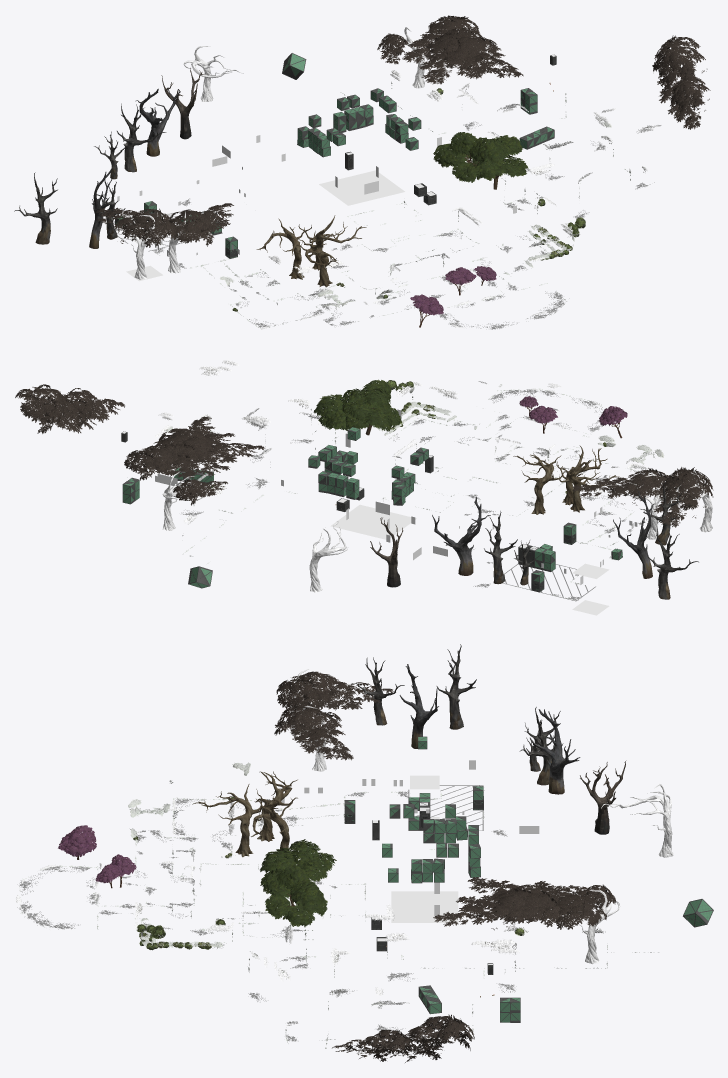
Rendered from Haven_Foliage.desktop.glb.
The picture shows the model from 3 angles, top to bottom: view 1: azimuth 30°, elevation 25°; view 2: azimuth 150°, elevation 25°; view 3: azimuth 270°, elevation 25°; orthographic projection. The views are drawn at different scales.
Visible parts, largest first — view 1: Shard_0_Box.016, Tree_1_ConiferC, Tree_0_BeechCanopyFoliage, Tree_0_BeechCanopyFoliage.016, FTBox_0_C.002, Tree_0_BeechCanopyFoliage.015, Tree_0_BeechCanopyFoliage.006, Tree_2_Trunk, Tree_0_BeechCanopyFoliage.014, Tree_0_AshenA.002, Tree_0_AshenA, Shard_0_Box (+11 smaller); view 2: Tree_0_BeechCanopyFoliage.016, Tree_1_ConiferC, Shard_0_Box.016, Tree_0_BeechCanopyFoliage, Tree_0_BeechCanopyFoliage.006, FTBox_0_C.002, Tree_0_BeechCanopyFoliage.015, Tree_2_Trunk, Tree_0_BeechCanopyFoliage.014, Tree_0_AshenA.002, Tree_0_AshenC, Tree_0_AshenA (+16 smaller); view 3: Tree_1_ConiferC, Tree_0_BeechCanopyFoliage, Shard_0_Box.016, Tree_0_BeechCanopyFoliage.016, Tree_0_BeechCanopyFoliage.015, Tree_0_BeechCanopyFoliage.014, Tree_2_Trunk, FTBox_0_C.002, Tree_0_BeechCanopyFoliage.006, Tree_0_AshenA.002, Tree_0_AshenC, Shard_0_Box (+13 smaller).
Boxes of the visible parts, x1,y1,x2,y2 form: Shard_0_Box.016: [297, 88, 421, 157]; Tree_1_ConiferC: [433, 132, 528, 189]; Tree_0_BeechCanopyFoliage: [419, 28, 523, 84]; Tree_0_BeechCanopyFoliage.016: [652, 35, 710, 129]; FTBox_0_C.002: [319, 137, 441, 205]; Tree_0_BeechCanopyFoliage.015: [95, 207, 177, 247]; Tree_0_BeechCanopyFoliage.006: [377, 15, 479, 64]; Tree_2_Trunk: [256, 215, 366, 287]; Tree_0_BeechCanopyFoliage.014: [163, 203, 233, 246]; Tree_0_AshenA.002: [14, 172, 125, 244]; Tree_0_AshenA: [94, 103, 166, 179]; Shard_0_Box: [519, 88, 554, 149]; Tree_0_BeechCanopyFoliage.016: [15, 384, 124, 433]; Tree_1_ConiferC: [313, 379, 402, 435]; Shard_0_Box.016: [308, 427, 428, 505]; Tree_0_BeechCanopyFoliage: [147, 416, 265, 469]; Tree_0_BeechCanopyFoliage.006: [124, 446, 229, 505]; FTBox_0_C.002: [330, 433, 433, 539]; Tree_0_BeechCanopyFoliage.015: [653, 467, 713, 527]; Tree_2_Trunk: [513, 445, 620, 514]; Tree_0_BeechCanopyFoliage.014: [572, 468, 674, 505]; Tree_0_AshenA.002: [641, 482, 698, 599]; Tree_0_AshenC: [432, 497, 490, 575]; Tree_0_AshenA: [484, 511, 535, 585]; Tree_1_ConiferC: [260, 839, 336, 927]; Tree_0_BeechCanopyFoliage: [433, 877, 571, 930]; Shard_0_Box.016: [382, 804, 480, 883]; Tree_0_BeechCanopyFoliage.016: [332, 1014, 474, 1062]; Tree_0_BeechCanopyFoliage.015: [276, 671, 393, 716]; Tree_0_BeechCanopyFoliage.014: [274, 703, 353, 760]; Tree_2_Trunk: [192, 771, 297, 857]; FTBox_0_C.002: [371, 820, 458, 929]; Tree_0_BeechCanopyFoliage.006: [534, 881, 616, 929]; Tree_0_AshenA.002: [356, 644, 476, 729]; Tree_0_AshenC: [530, 709, 580, 794]; Shard_0_Box: [418, 985, 520, 1022].
Size of the model in its own units: 167 by 30.9 by 131.
21 materials, 19 textured.
